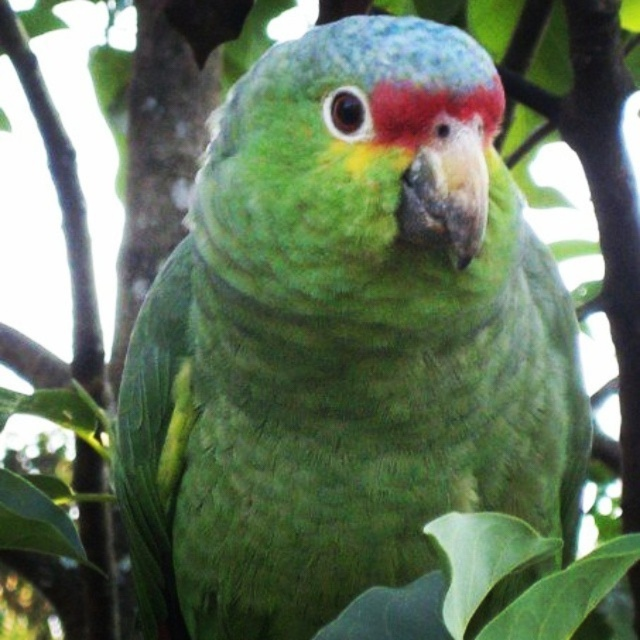Parrot: (112, 15, 594, 640)
